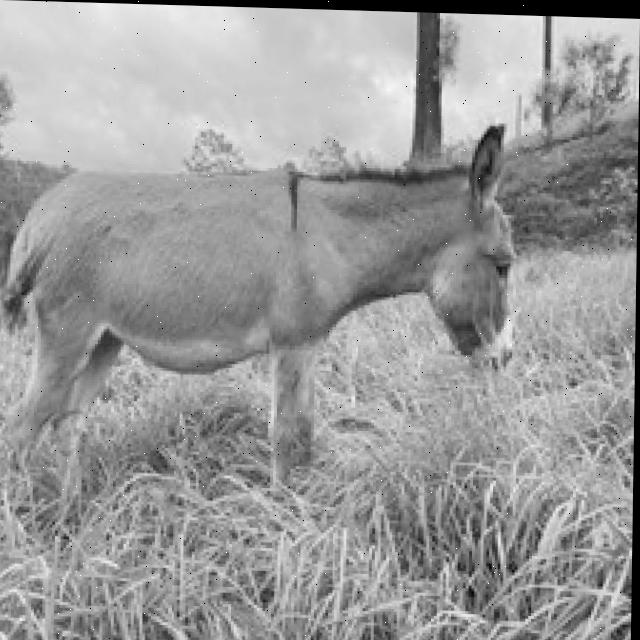Donkey: (0, 106, 518, 516)
